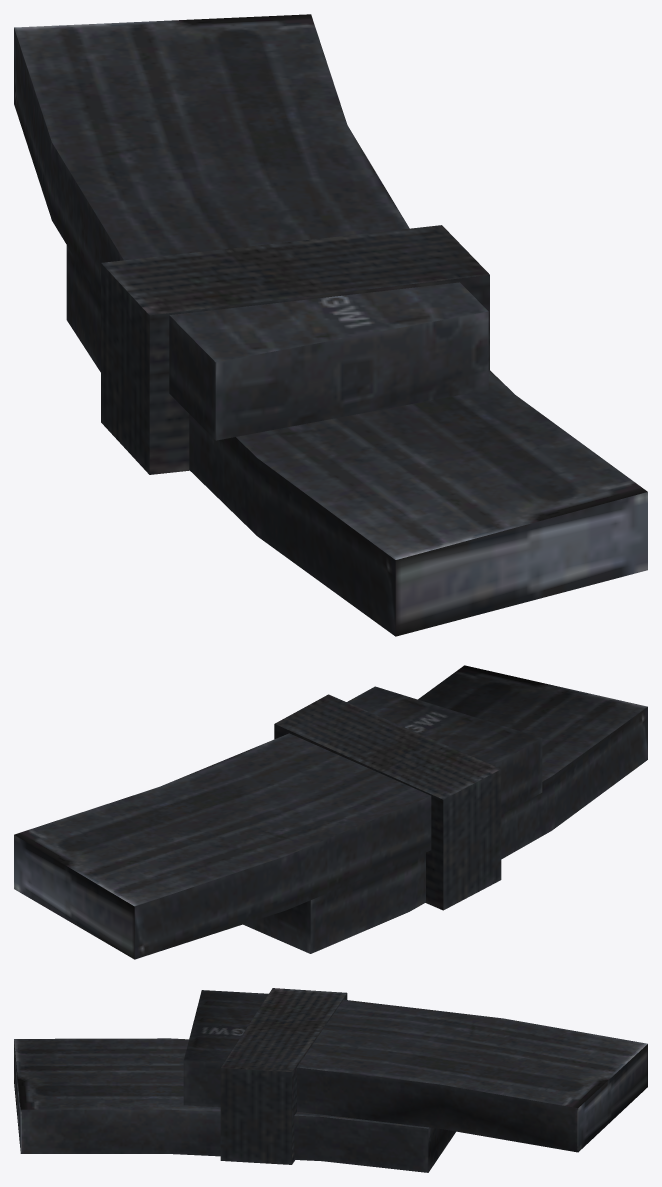
Rendered from t6_attach_fastmag_x95l_world_LOD0.obj.
The picture shows the model from 3 angles, top to bottom: view 1: azimuth 30°, elevation 25°; view 2: azimuth 150°, elevation 25°; view 3: azimuth 270°, elevation 25°; orthographic projection. The views are drawn at different scales.
Parts seen in each view (by area): view 1: mtl_t6_wpn_ar_x95l_camo1, mtl_t6_wpn_ar_x95l_camo4; view 2: mtl_t6_wpn_ar_x95l_camo1, mtl_t6_wpn_ar_x95l_camo4; view 3: mtl_t6_wpn_ar_x95l_camo1, mtl_t6_wpn_ar_x95l_camo4.
Part boxes in pixels (left/top/right/bottom): mtl_t6_wpn_ar_x95l_camo1: left=14, top=14, right=647, bottom=636; mtl_t6_wpn_ar_x95l_camo4: left=101, top=225, right=489, bottom=474; mtl_t6_wpn_ar_x95l_camo1: left=14, top=665, right=647, bottom=959; mtl_t6_wpn_ar_x95l_camo4: left=274, top=694, right=501, bottom=910; mtl_t6_wpn_ar_x95l_camo1: left=14, top=990, right=647, bottom=1172; mtl_t6_wpn_ar_x95l_camo4: left=220, top=988, right=347, bottom=1164.
Bounding box in the file's own units: 12.98 × 4.72 × 29.2.
